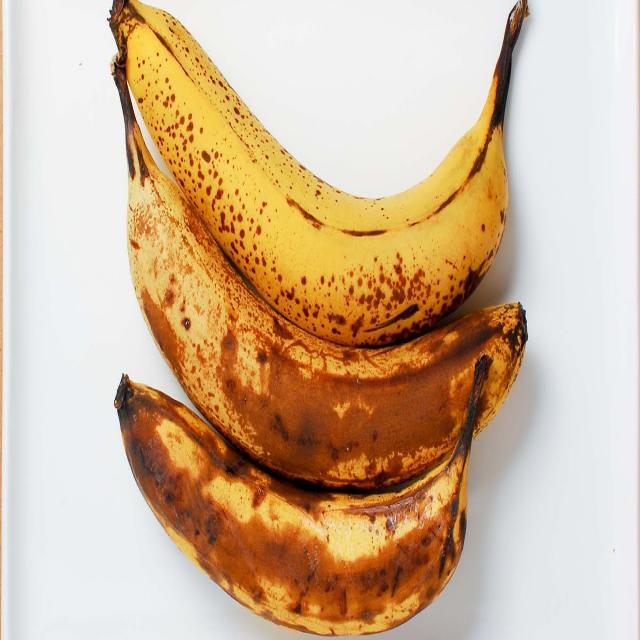Banana: (110, 64, 542, 485), (110, 0, 530, 352), (95, 368, 504, 634)
